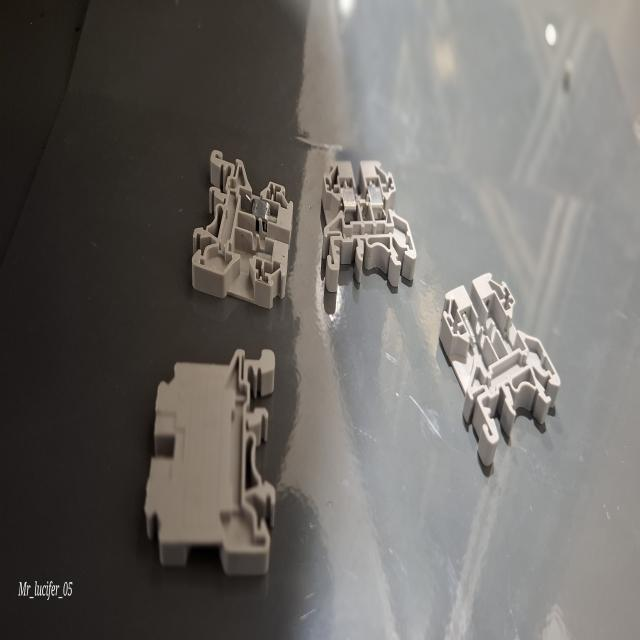Inverted: (144, 347, 277, 578)
Pass: (319, 160, 416, 295)
Reject: (440, 268, 560, 470), (191, 149, 295, 309)
